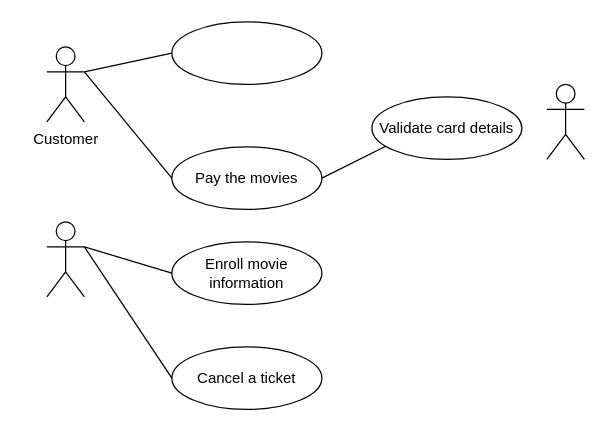
The diagram is 606 pixels wide and 431 high, and some of its shapes have lost their labels. The centre of each missing label's shape, as x and y in pixels:
"Actor" belongs at (565,121).
"Administrator" belongs at (65,259).
"Display movies" belongs at (246,52).
